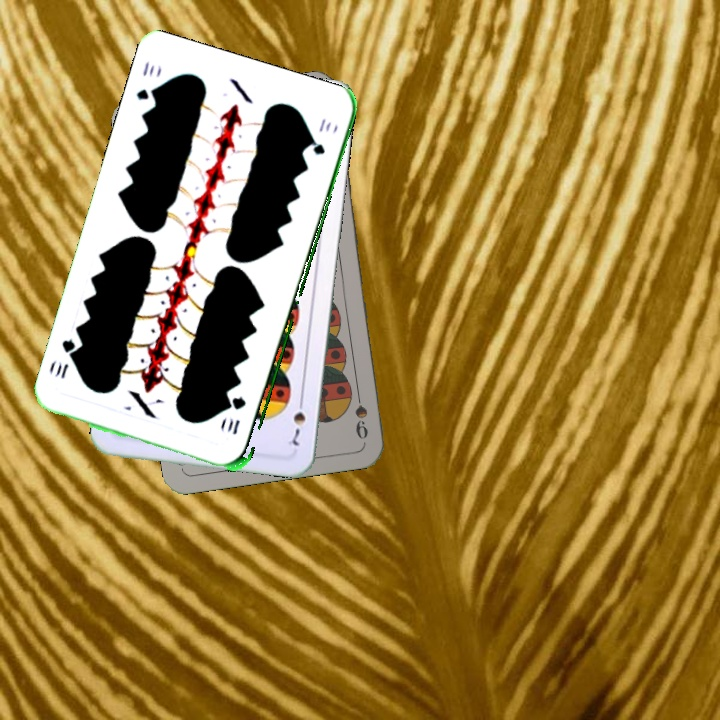G10: (132, 57, 161, 105), (223, 393, 249, 437)
S7: (284, 392, 308, 449)
S9: (351, 383, 371, 442)
